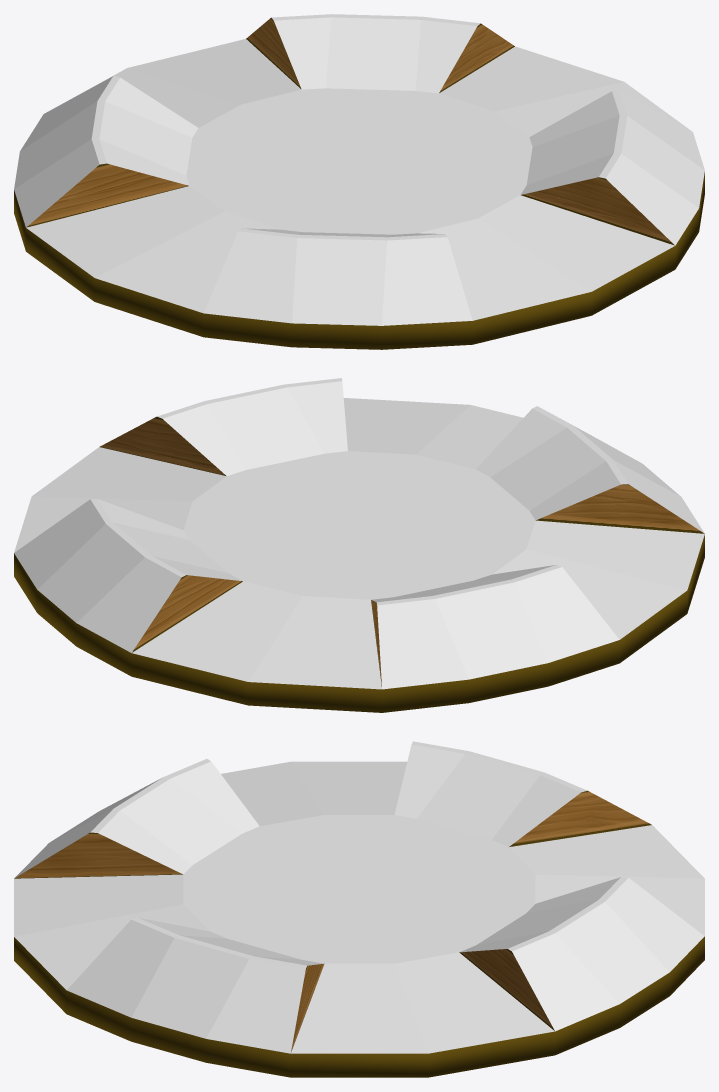
File: tourniquet.fbx
3 views of the same model, one above another, from view 1: azimuth 30°, elevation 25°; view 2: azimuth 150°, elevation 25°; view 3: azimuth 270°, elevation 25° (orthographic).
Visible parts, largest first — view 1: tourniquet; view 2: tourniquet; view 3: tourniquet.
Part boxes in pixels (<box>): tourniquet: <box>14,14,704,349</box>; tourniquet: <box>14,378,704,712</box>; tourniquet: <box>14,741,704,1077</box>.
Size of what is drawn, in the model's own units: 52.3 by 52.3 by 6.39.
